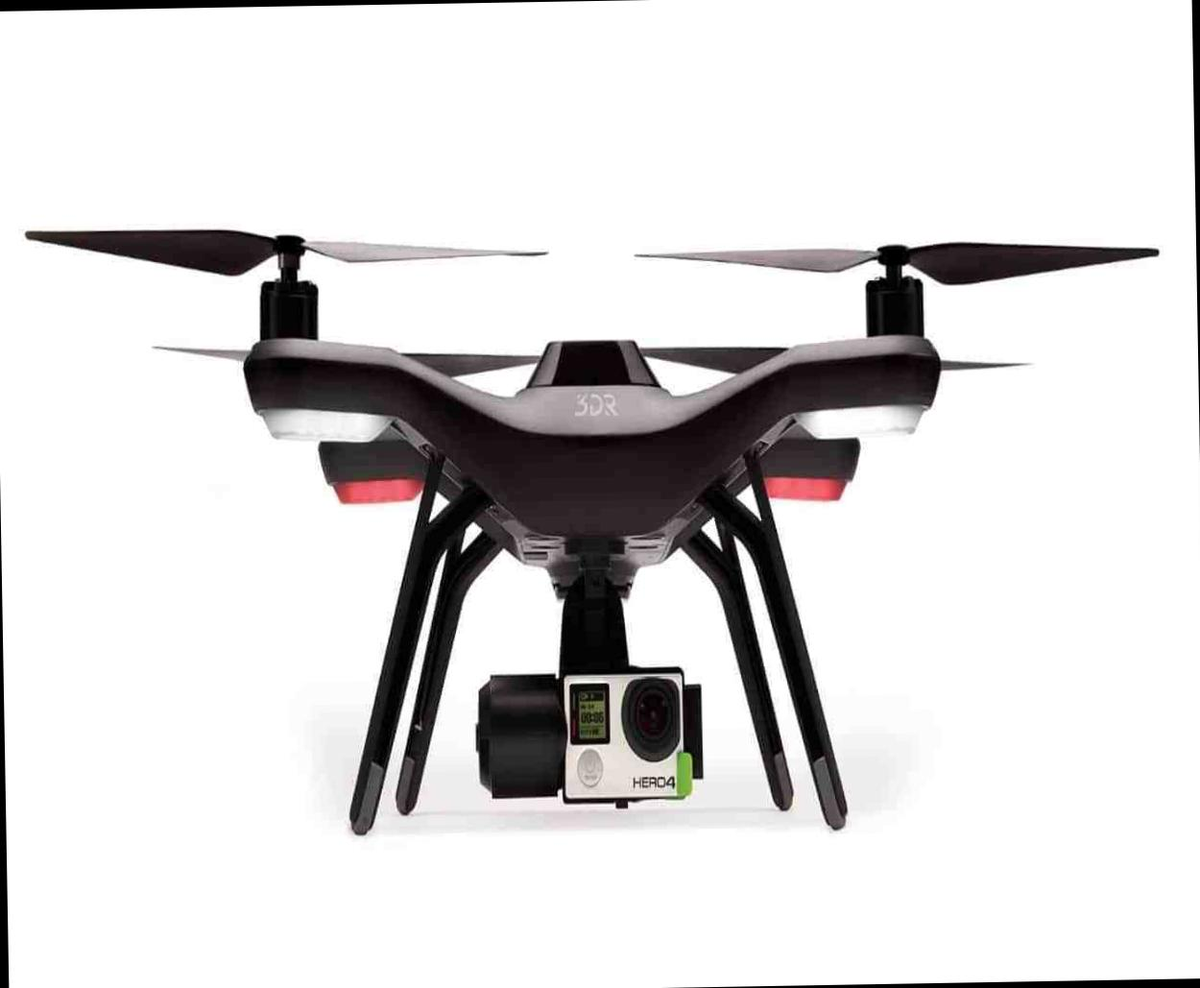drone: (25, 176, 1200, 544)
